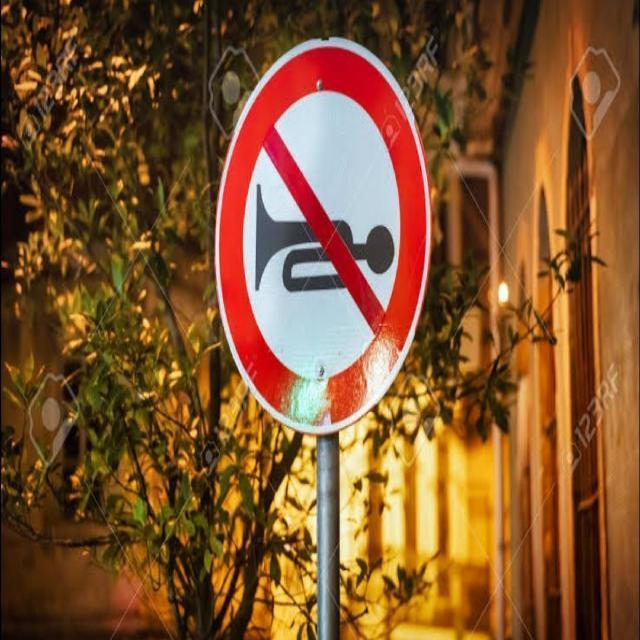horn prohibited: (204, 36, 433, 434)
